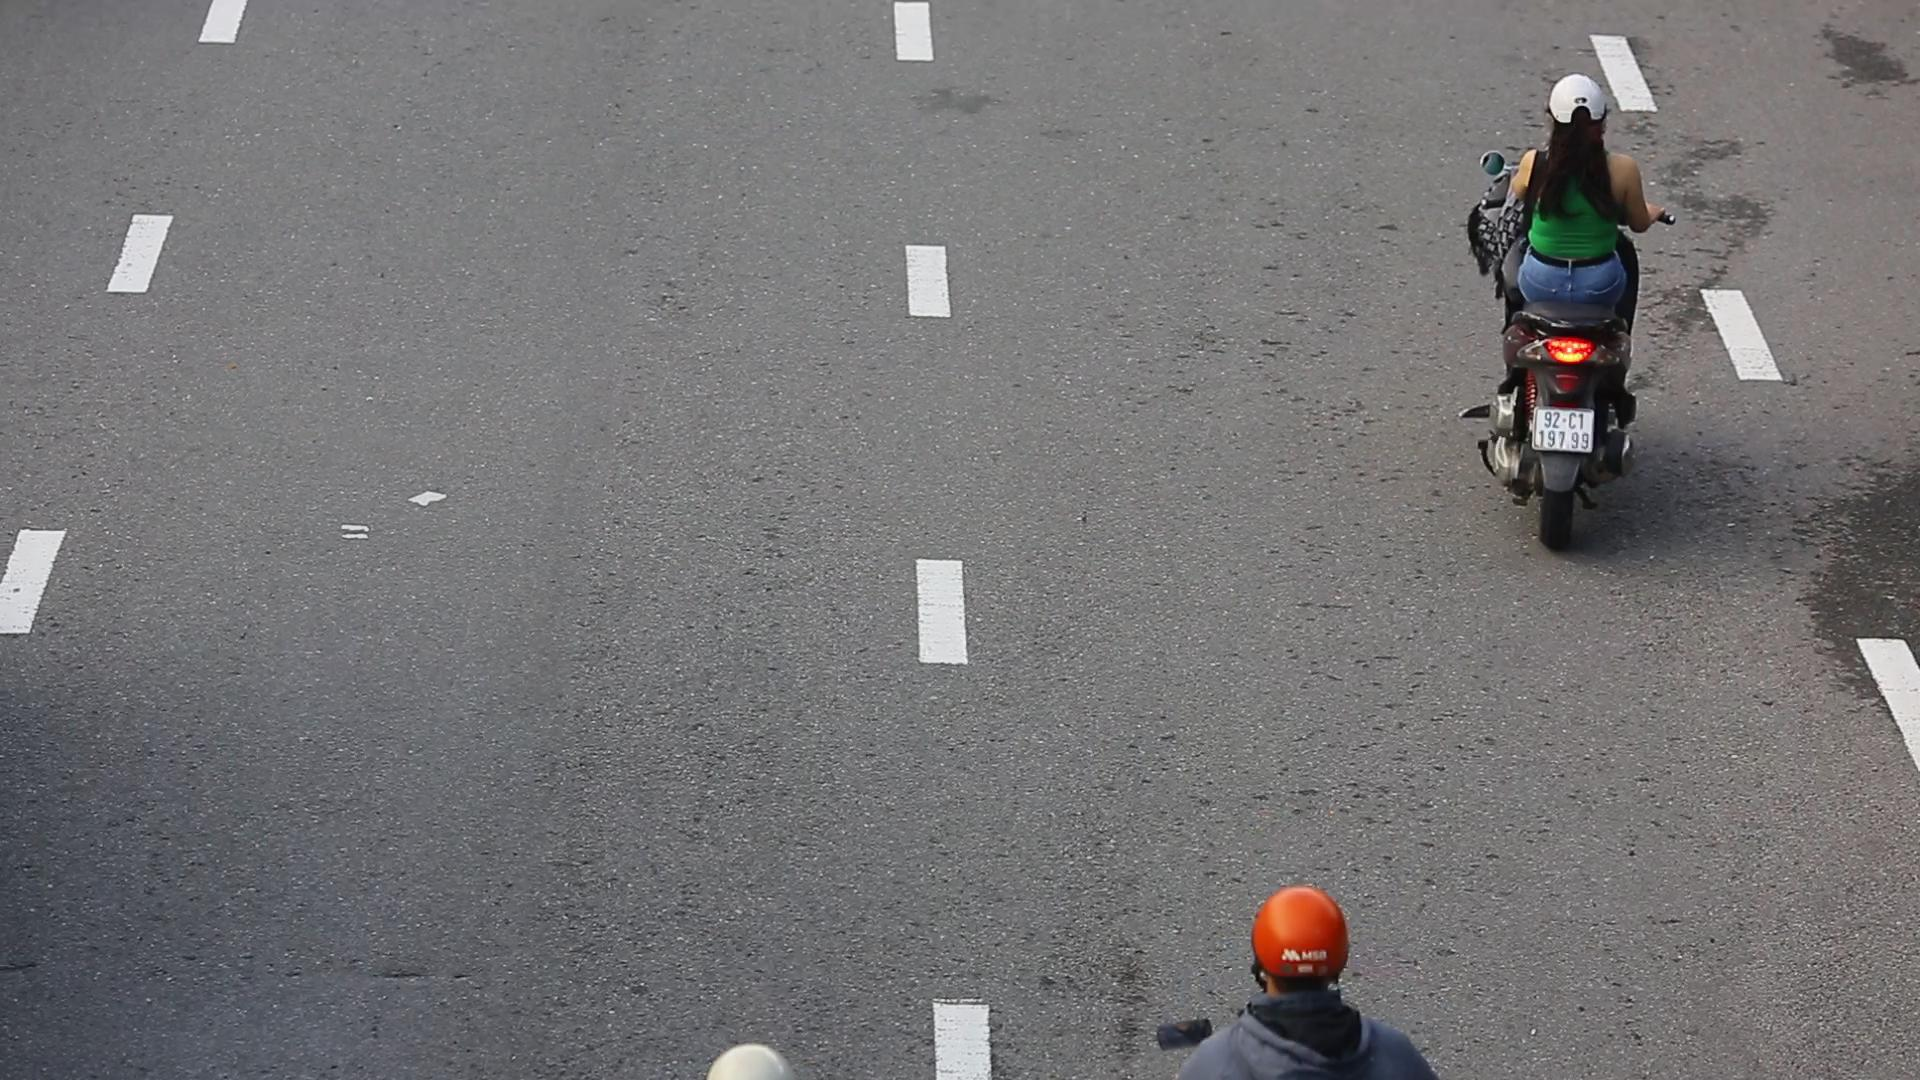motobike: (1462, 54, 1671, 558)
